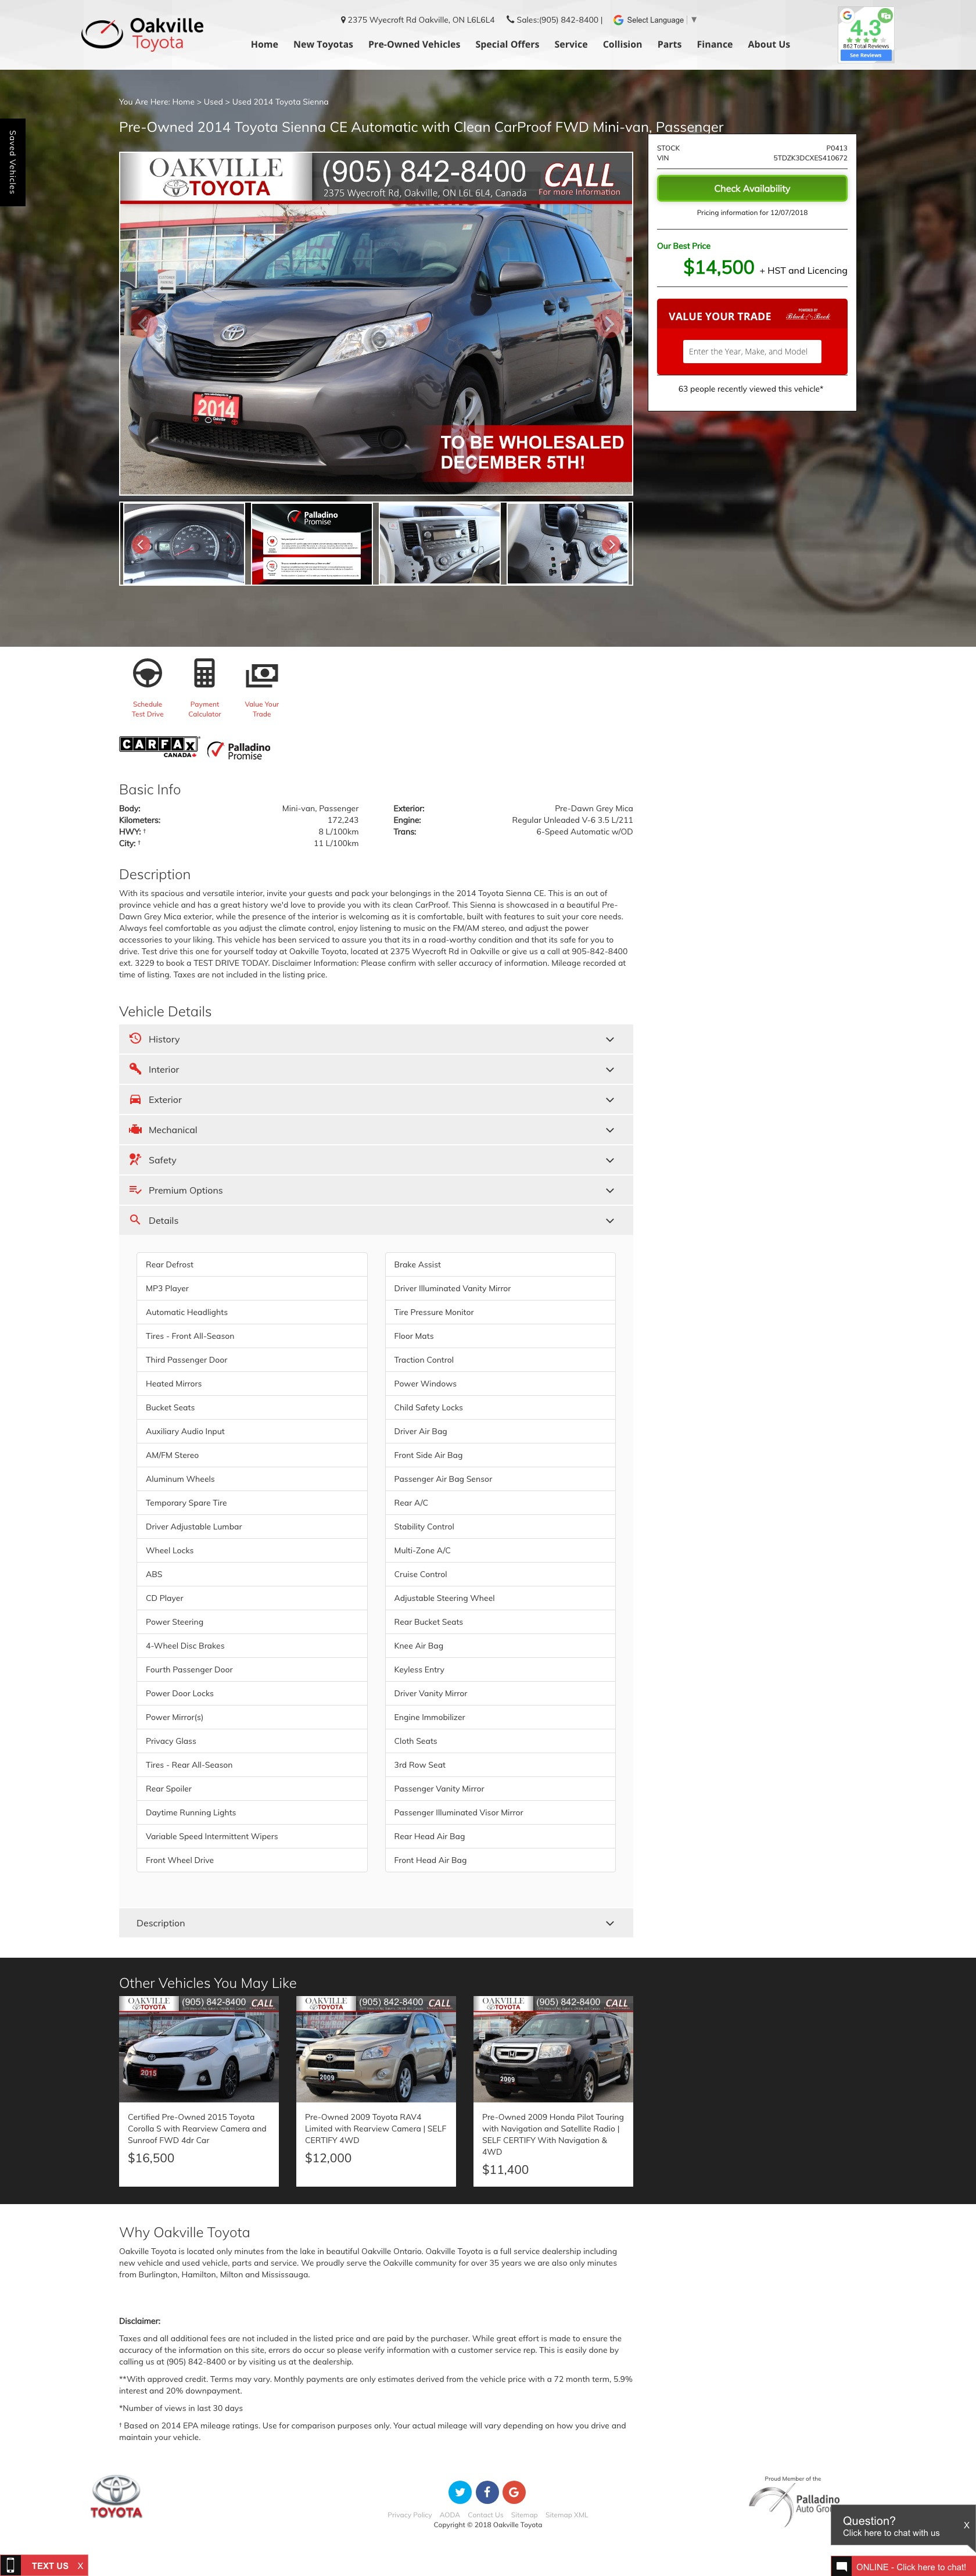car: (601, 534, 621, 555)
